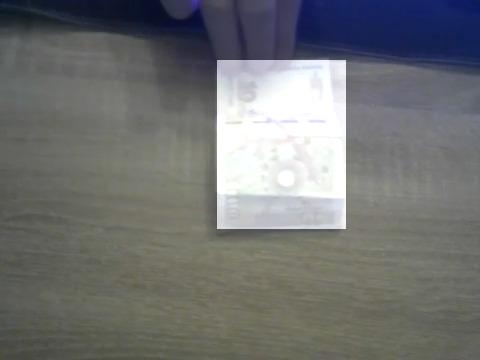10leva: (217, 60, 346, 229)
